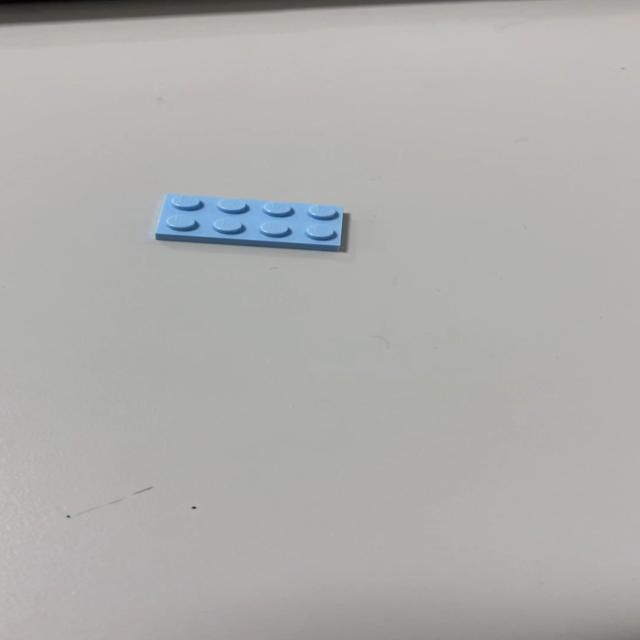C4x2x0: (153, 192, 344, 252)
